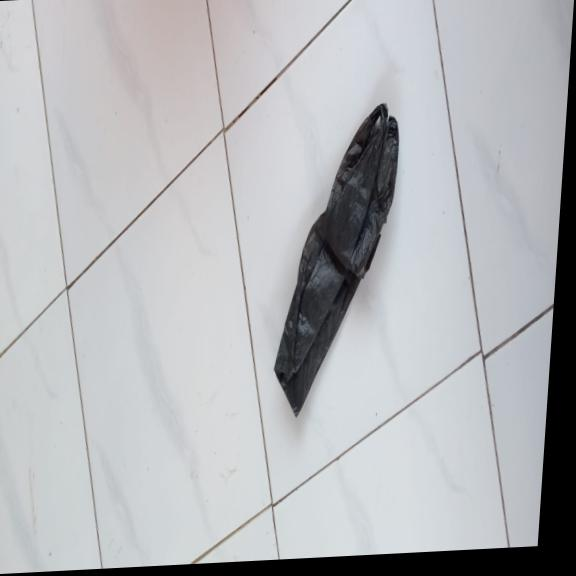Plastik: (271, 96, 404, 417)
